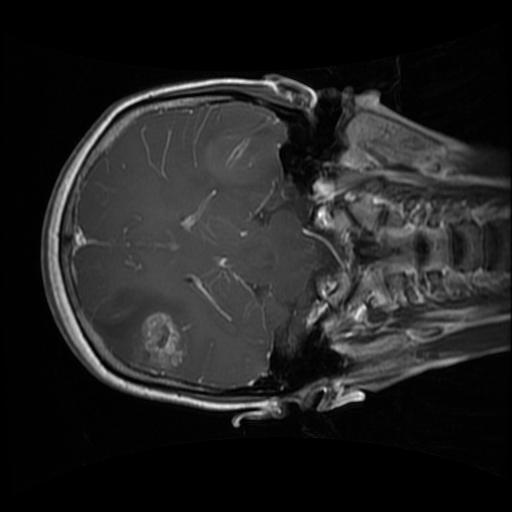glioma: (96, 281, 185, 371)
